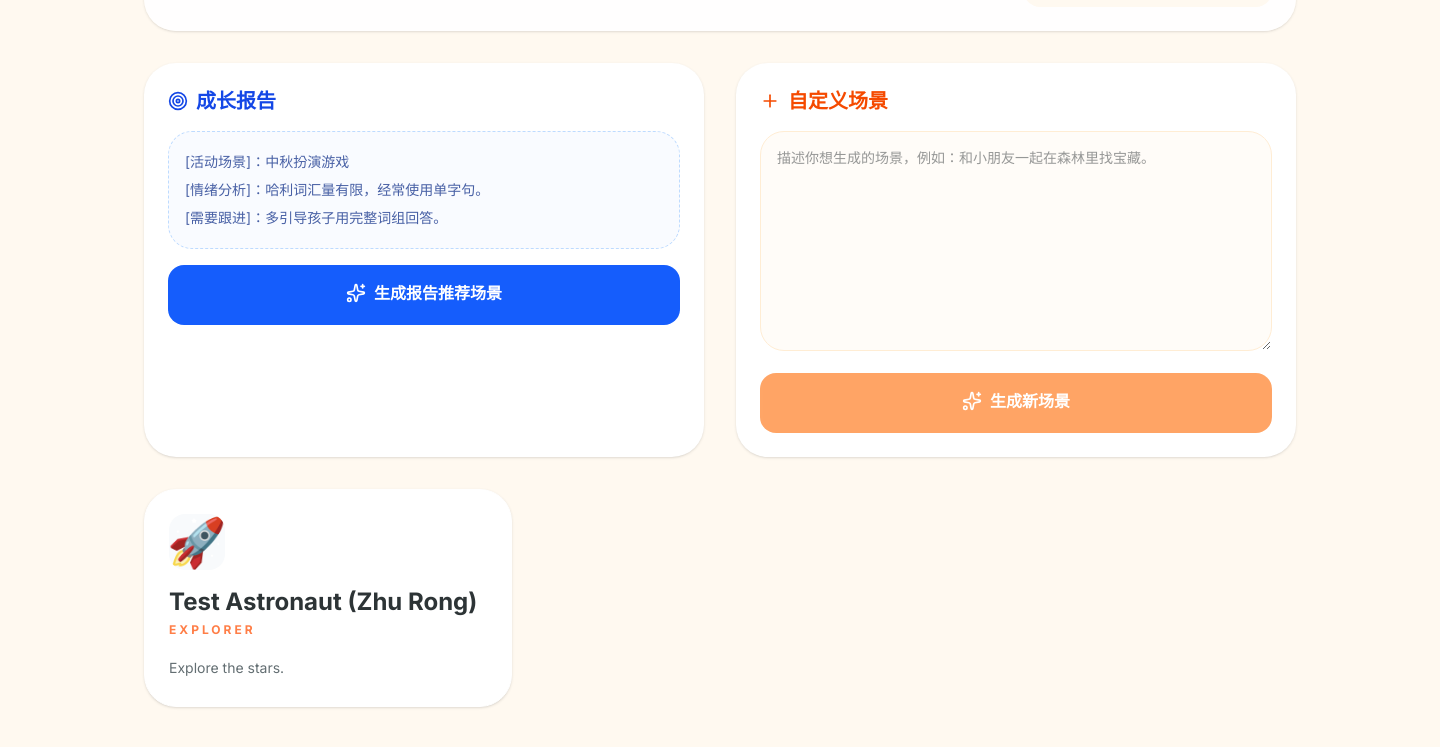
Test: App interaction flow › shows a dedicated voice input button next to the mobile text field
(page scrolled)
Step 1. Click the heading "Test Astronaut (Zhu Rong)" → {"x": 328, "y": 602}, box top-left (169, 586), bottom-right (487, 618)
(page scrolled)
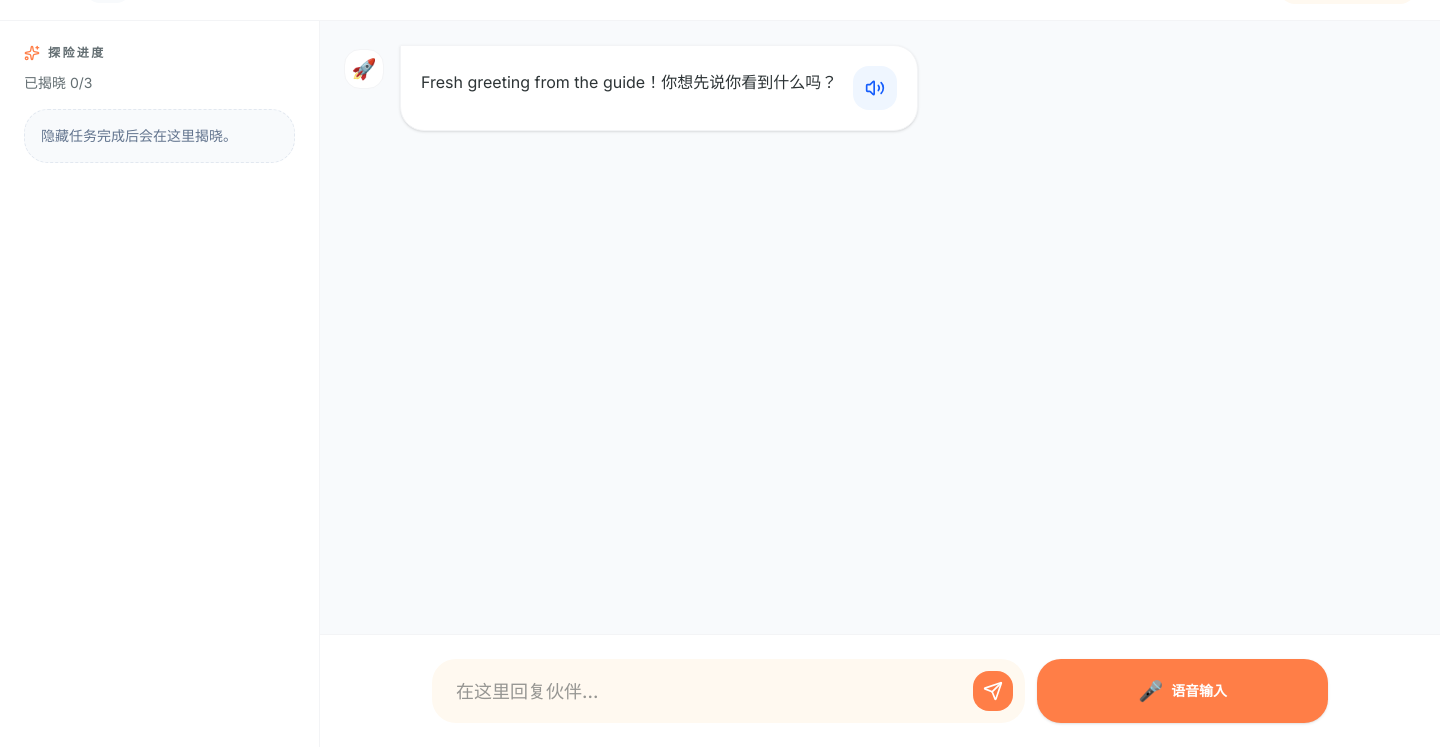
Result: the button with aria-label "toggle-voice-input" is shown at top-left (1037, 659), bottom-right (1328, 723)
